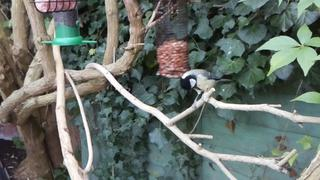great tit: (180, 69, 233, 109)
